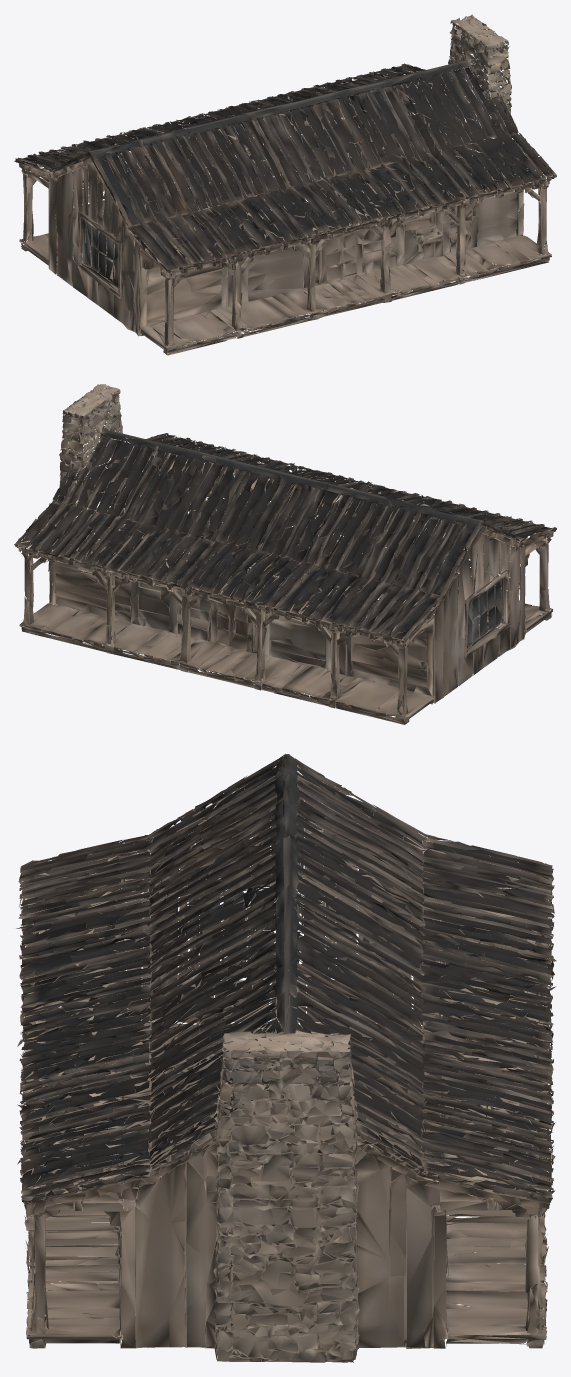
File: ranch.glb
The picture shows the model from 3 angles, top to bottom: view 1: azimuth 30°, elevation 25°; view 2: azimuth 150°, elevation 25°; view 3: azimuth 270°, elevation 25°; orthographic projection. The views are drawn at different scales.
Visible parts, largest first — view 1: LO.001; view 2: LO.001; view 3: LO.001.
Boxes of the visible parts, x1,y1,x2,y2 form: LO.001: (14,14,556,355); LO.001: (14,384,556,724); LO.001: (16,754,556,1362).
Bounding box in the file's own units: 1.91 × 0.8101 × 1.26.
Materials: 1 (1 with a texture image).
